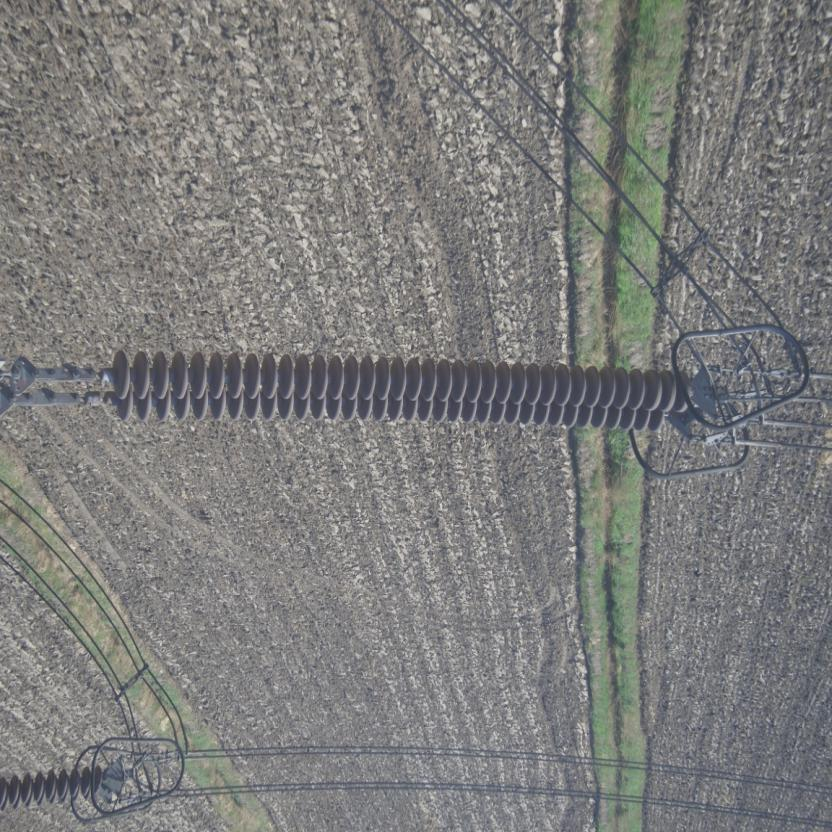insulator: (39, 348, 700, 442), (0, 754, 115, 818)
